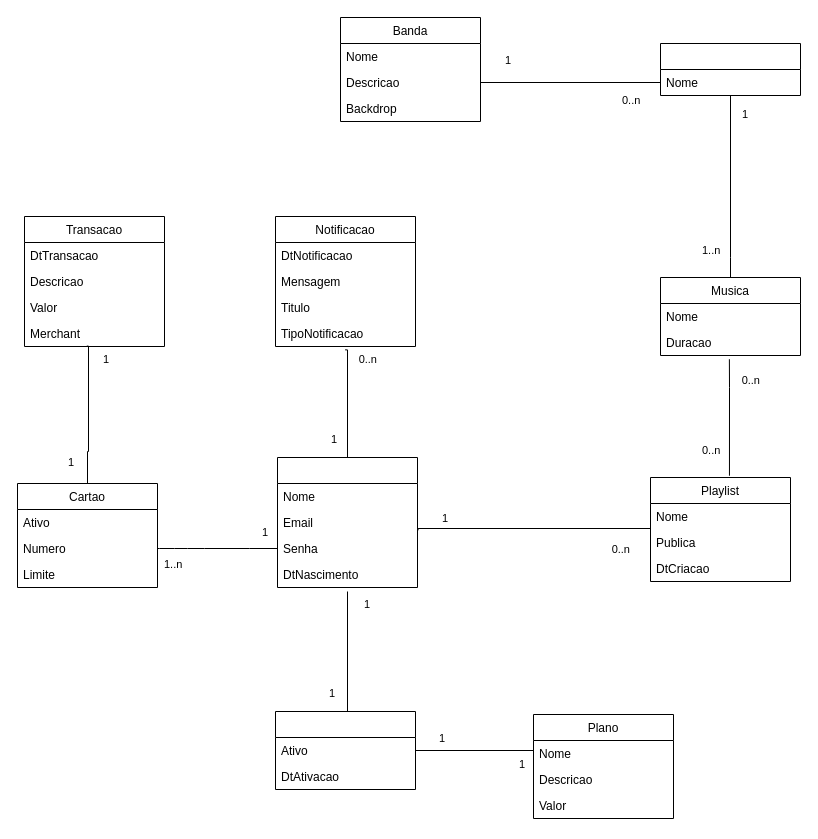
The diagram is 818 pixels wide and 839 high, and some of its shapes have lost their labels. The shapes that lost their labels are listed below. From the top down, each one's box as (x1, y1, x2, y2) in pixels, then its label:
(660, 42, 800, 96): Album
(276, 456, 418, 588): Usuario
(274, 710, 416, 790): Assinatura
